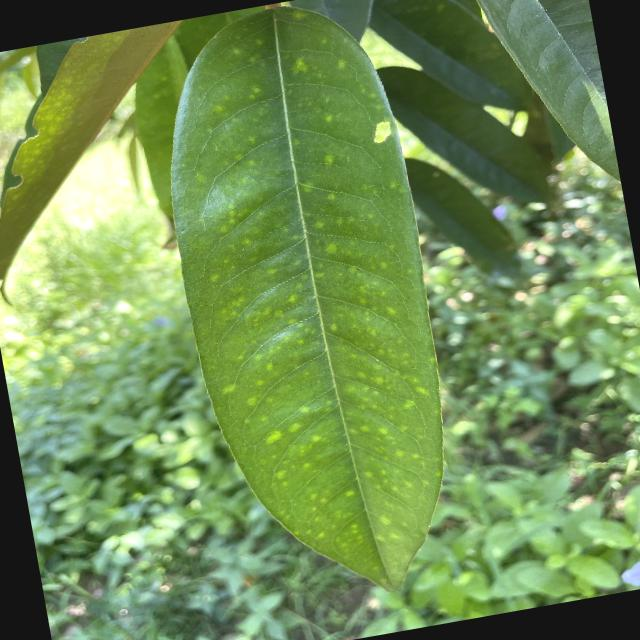Leaf Spot: (128, 0, 486, 628)
